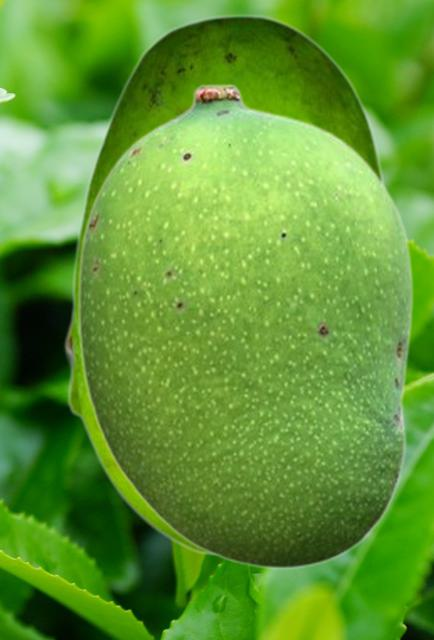green_mango: (63, 13, 385, 555), (76, 82, 412, 569)
